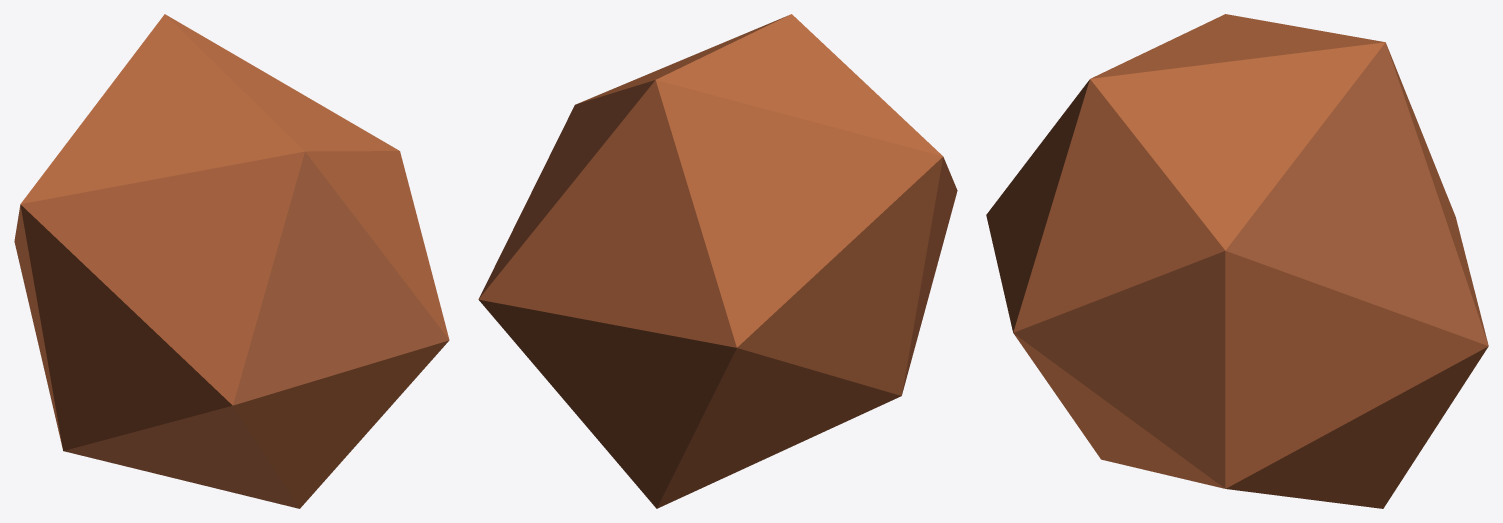
Rendered from SM_Rock_0.obj.
3 renders of one model, left to right at view 1: azimuth 30°, elevation 25°; view 2: azimuth 150°, elevation 25°; view 3: azimuth 270°, elevation 25°, orthographic. The views are drawn at different scales.
Visible parts, largest first — view 1: SM_Rock_0; view 2: SM_Rock_0; view 3: SM_Rock_0.
Part boxes in pixels (bbox=[...]): SM_Rock_0: bbox=[14, 14, 449, 508]; SM_Rock_0: bbox=[478, 14, 957, 508]; SM_Rock_0: bbox=[986, 14, 1488, 508].
Bounding box in the file's own units: 1.79 × 1.91 × 1.86.
Materials: 1 (1 with a texture image).
